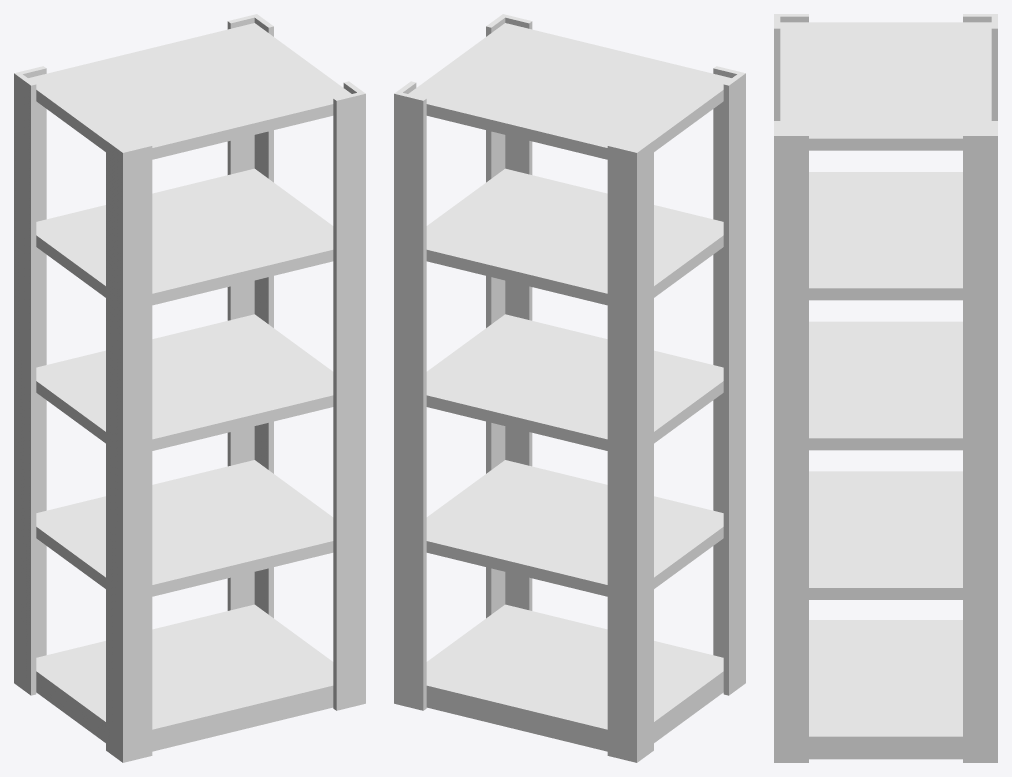
Rendered from Prop_Shelf_01.glb.
The picture shows the model from 3 angles, left to right: view 1: azimuth 30°, elevation 25°; view 2: azimuth 150°, elevation 25°; view 3: azimuth 270°, elevation 25°; orthographic projection. The views are drawn at different scales.
Parts seen in each view (by area): view 1: Prop_Shelf_01; view 2: Prop_Shelf_01; view 3: Prop_Shelf_01.
Boxes of the visible parts, x1,y1,x2,y2 form: Prop_Shelf_01: [14, 14, 365, 762]; Prop_Shelf_01: [394, 14, 745, 762]; Prop_Shelf_01: [774, 14, 997, 762].
Size of the model in its own units: 0.6139 by 1.47 by 0.4767.
Materials: 1 (1 with a texture image).
